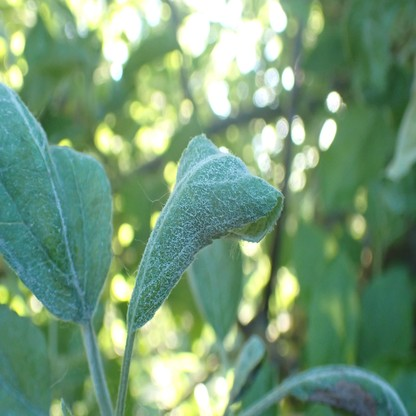powdery_mildew: (126, 132, 284, 326), (0, 78, 112, 321)
